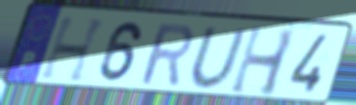4: (286, 32, 331, 97)
6: (98, 21, 144, 84)
H: (226, 23, 299, 99), (37, 16, 110, 85)
R: (137, 22, 195, 89)
U: (188, 26, 250, 91)
